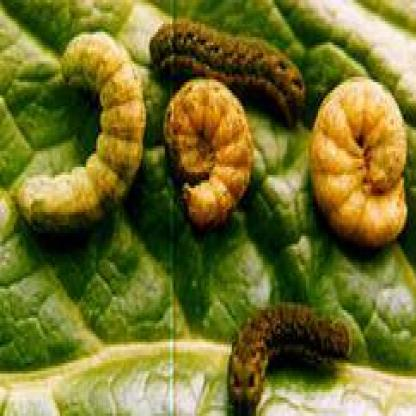armyworm: (17, 27, 150, 248), (307, 71, 416, 249), (150, 13, 312, 114), (159, 72, 256, 228), (224, 300, 354, 416)
